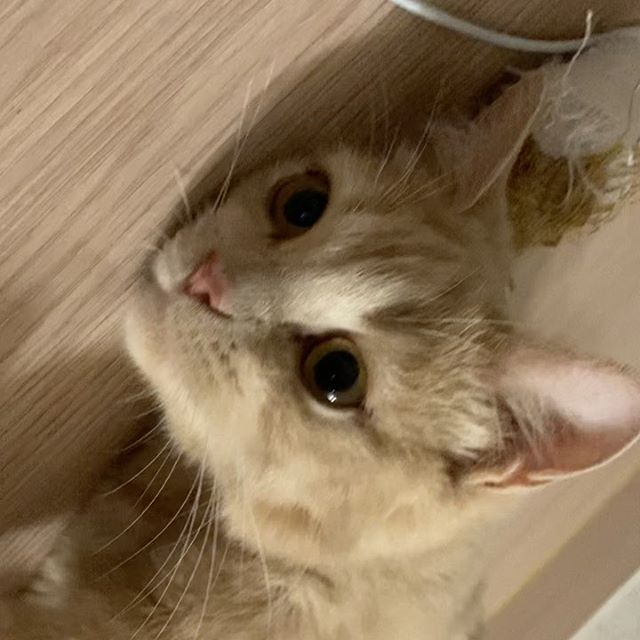cat: (117, 74, 640, 571)
